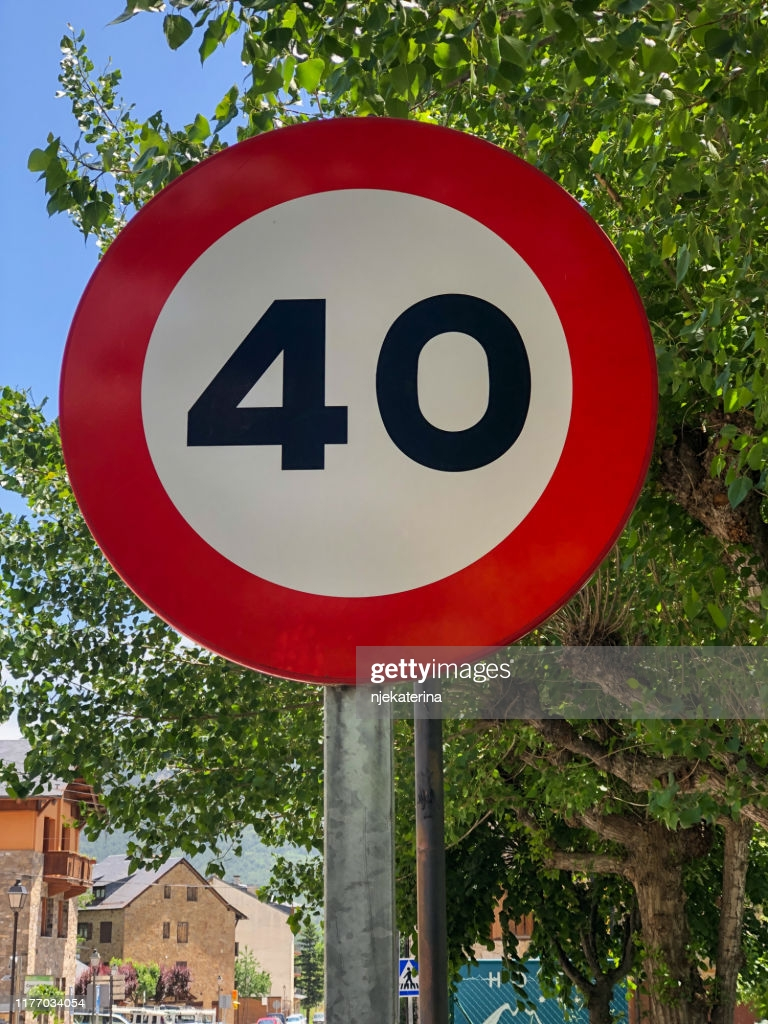40 Km/hr: (60, 120, 658, 645)
